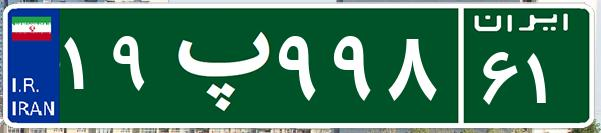1: (57, 26, 110, 107), (525, 38, 570, 115)
6: (475, 38, 525, 113)
8: (385, 28, 445, 110)
9: (273, 28, 330, 110), (330, 28, 385, 110), (110, 28, 158, 105)
پ: (158, 15, 273, 115)
